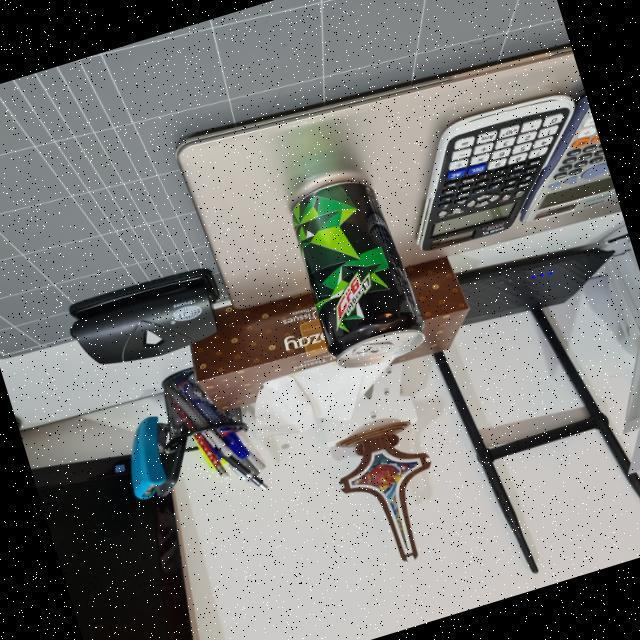can: (280, 166, 431, 374)
